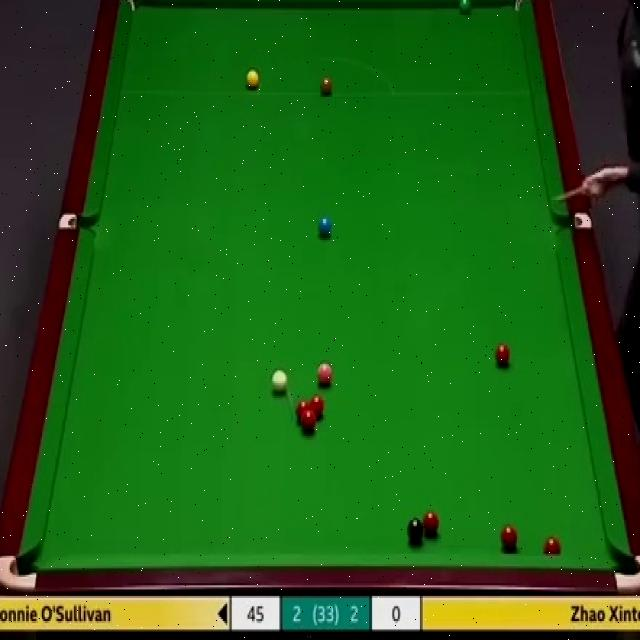black-ball: (407, 519, 424, 547)
blue-ball: (316, 216, 333, 237)
brown-ball: (320, 73, 332, 95)
green-ball: (458, 0, 469, 13)
pink-ball: (319, 361, 334, 388)
red-ball: (498, 522, 520, 550), (422, 512, 440, 540), (542, 536, 564, 556), (494, 343, 510, 369), (296, 400, 310, 426), (310, 395, 324, 420), (302, 413, 317, 434)
white-ball: (271, 367, 288, 393)
yellow-ball: (246, 72, 258, 89)
